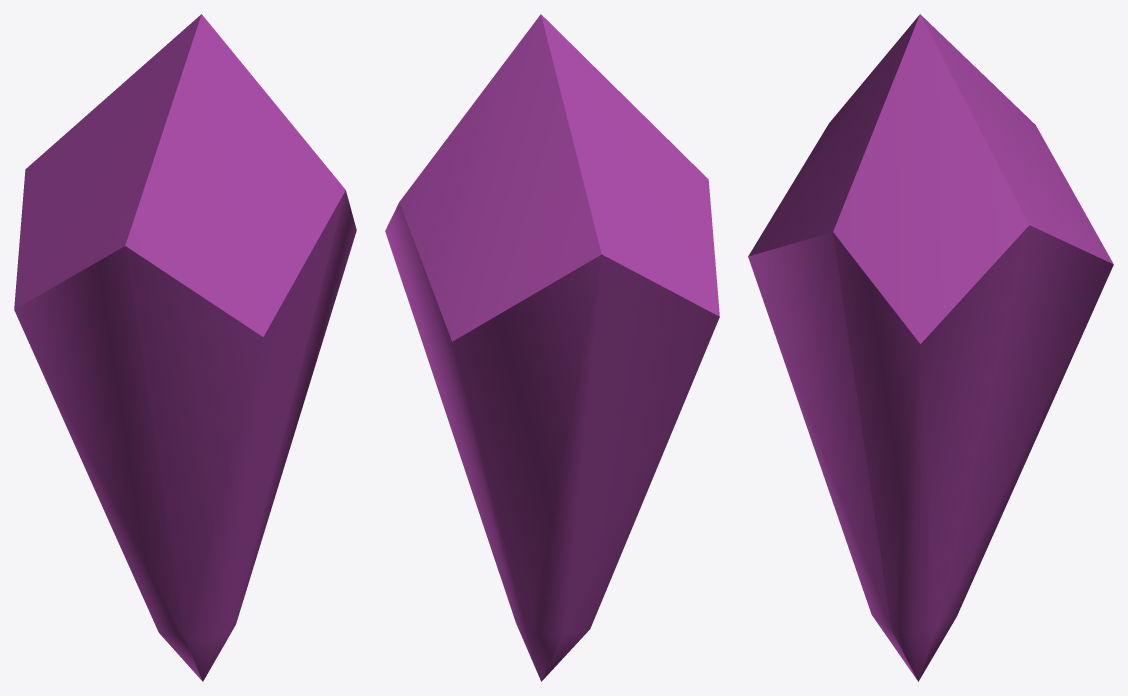
The model's file is Crystal.fbx.
3 views of the same model, side by side, from view 1: azimuth 30°, elevation 25°; view 2: azimuth 150°, elevation 25°; view 3: azimuth 270°, elevation 25° (orthographic).
Visible parts, largest first — view 1: pCube1; view 2: pCube1; view 3: pCube1.
Boxes of the visible parts, x1,y1,x2,y2 form: pCube1: [14, 14, 356, 681]; pCube1: [385, 14, 719, 681]; pCube1: [748, 14, 1113, 681].
Bounding box in the file's own units: 2.94 × 5.53 × 2.75.
